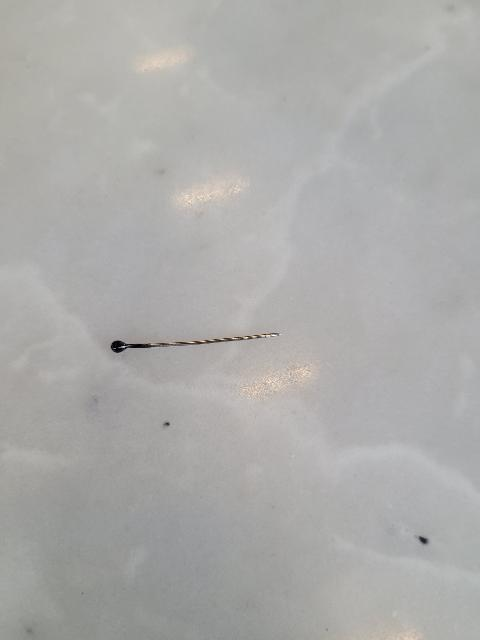Metal: (102, 322, 294, 360)
